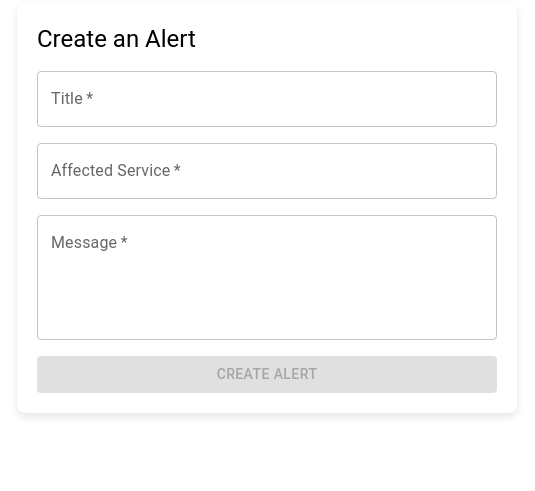
it: AlertForm Component Tests › handles error during alert creation
Step 1. Type "Test Title" into the field with test id "alert-title-input" → (267, 99), box [37,71,497,127]
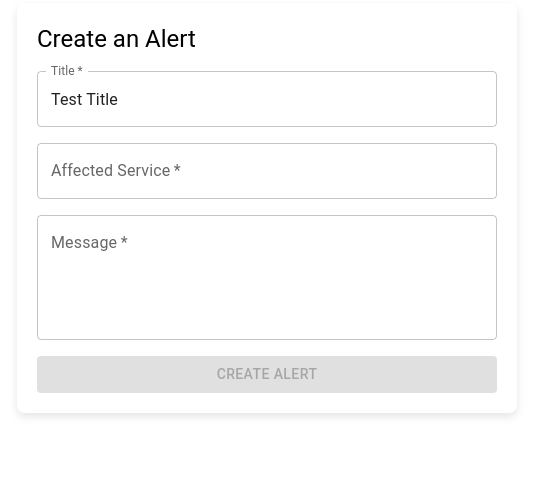
Step 2. Type "Test Service" into the field with test id "alert-affected-service-input" → (267, 171), box [37,143,497,199]
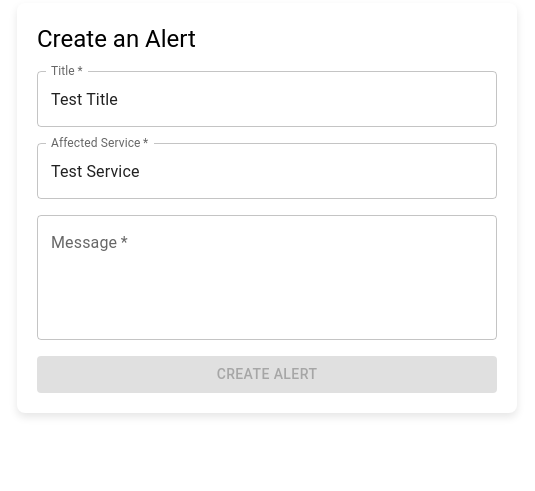
Step 3. Type "Test Message" into the text box with test id "alert-message-input" → (267, 278), box [51,232,483,324]
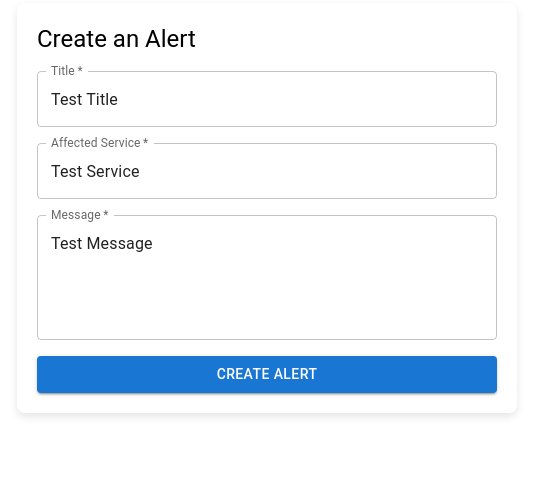
Step 4. Click the button with test id "alert-submit-button" → click(267, 374), box [37,356,497,392]
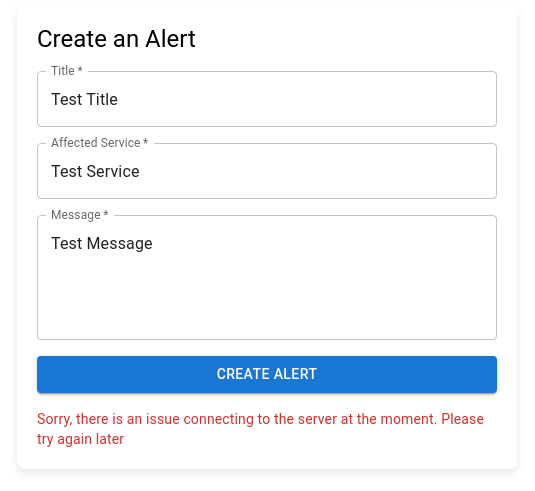
Expected: the text "Sorry, there is an issue connecting to the server at the moment. Please try again later" is shown, [37,410,484,446]
